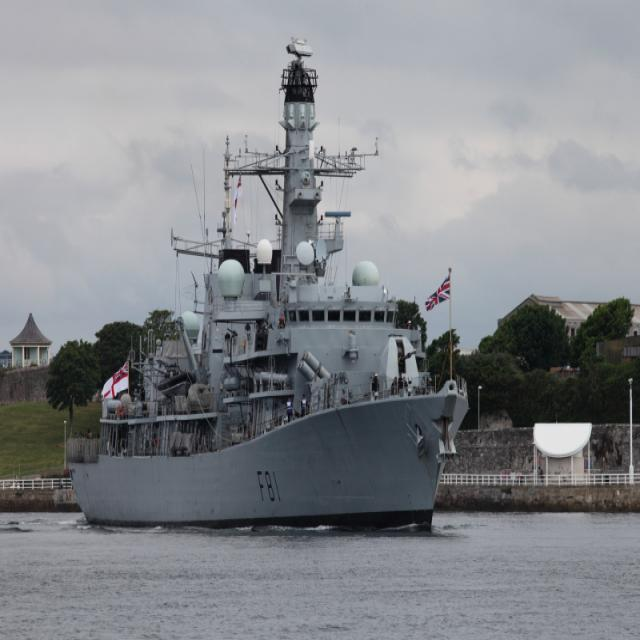Fragata: (63, 41, 478, 540)
